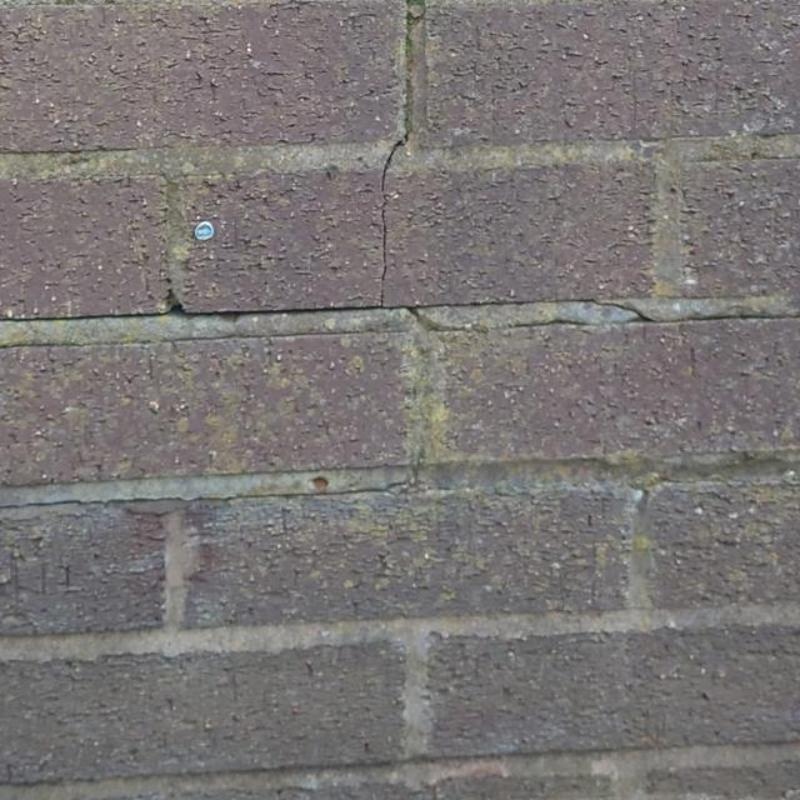pothole: (0, 285, 385, 322), (0, 479, 414, 510), (381, 8, 422, 281), (384, 299, 569, 332), (567, 298, 657, 325), (652, 315, 799, 323), (509, 319, 591, 326)
